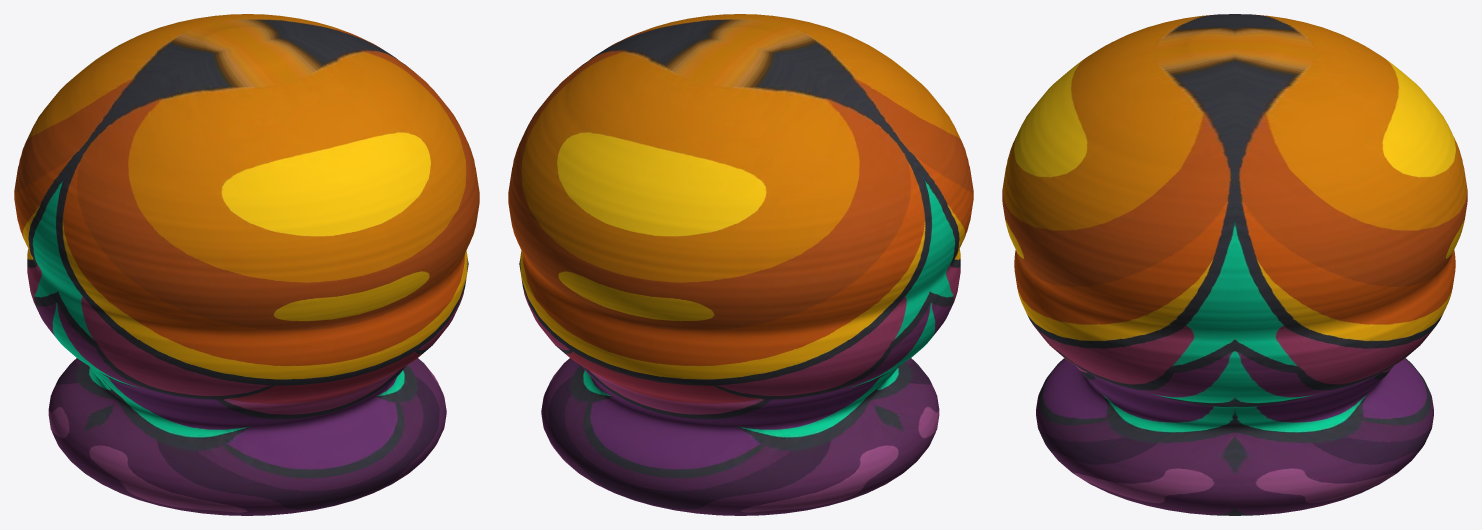
The model's file is orange_rosette.glb.
3 views of the same model, side by side, from view 1: azimuth 30°, elevation 25°; view 2: azimuth 150°, elevation 25°; view 3: azimuth 270°, elevation 25° (orthographic).
Parts seen in each view (by area): view 1: orange_rosette; view 2: orange_rosette; view 3: orange_rosette.
Part boxes in pixels (left/top/right/bottom): orange_rosette: left=14, top=14, right=479, bottom=515; orange_rosette: left=508, top=14, right=973, bottom=515; orange_rosette: left=1002, top=14, right=1467, bottom=515.
Size of the model in its own units: 1 by 1.02 by 1.
1 material, 1 textured.
